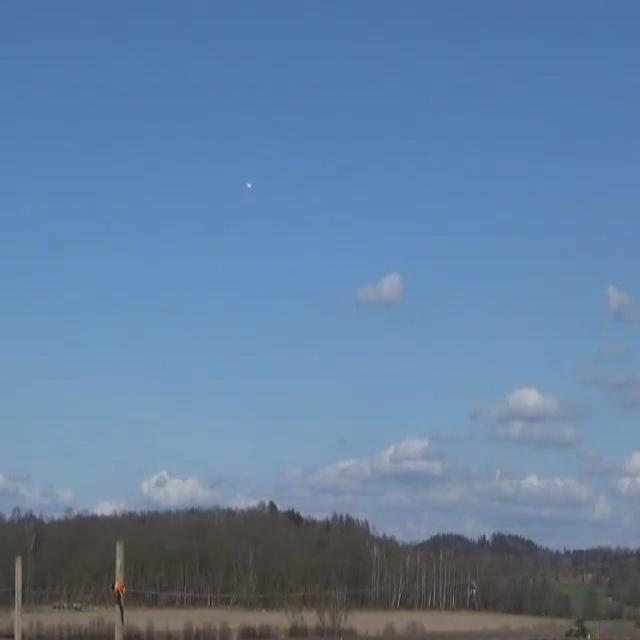drone: (246, 181, 252, 189)
